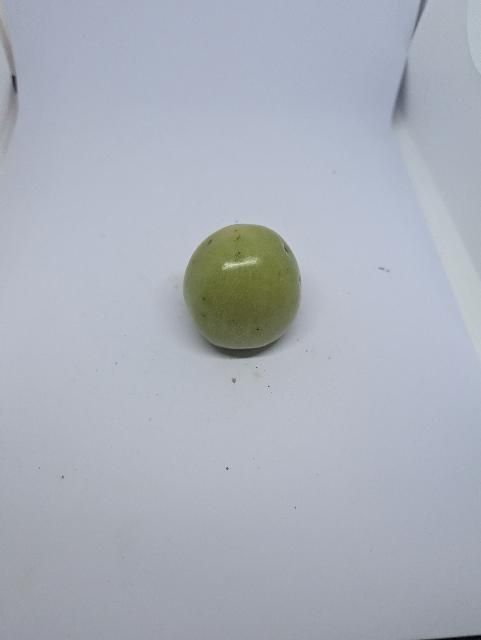green: (180, 221, 305, 352)
